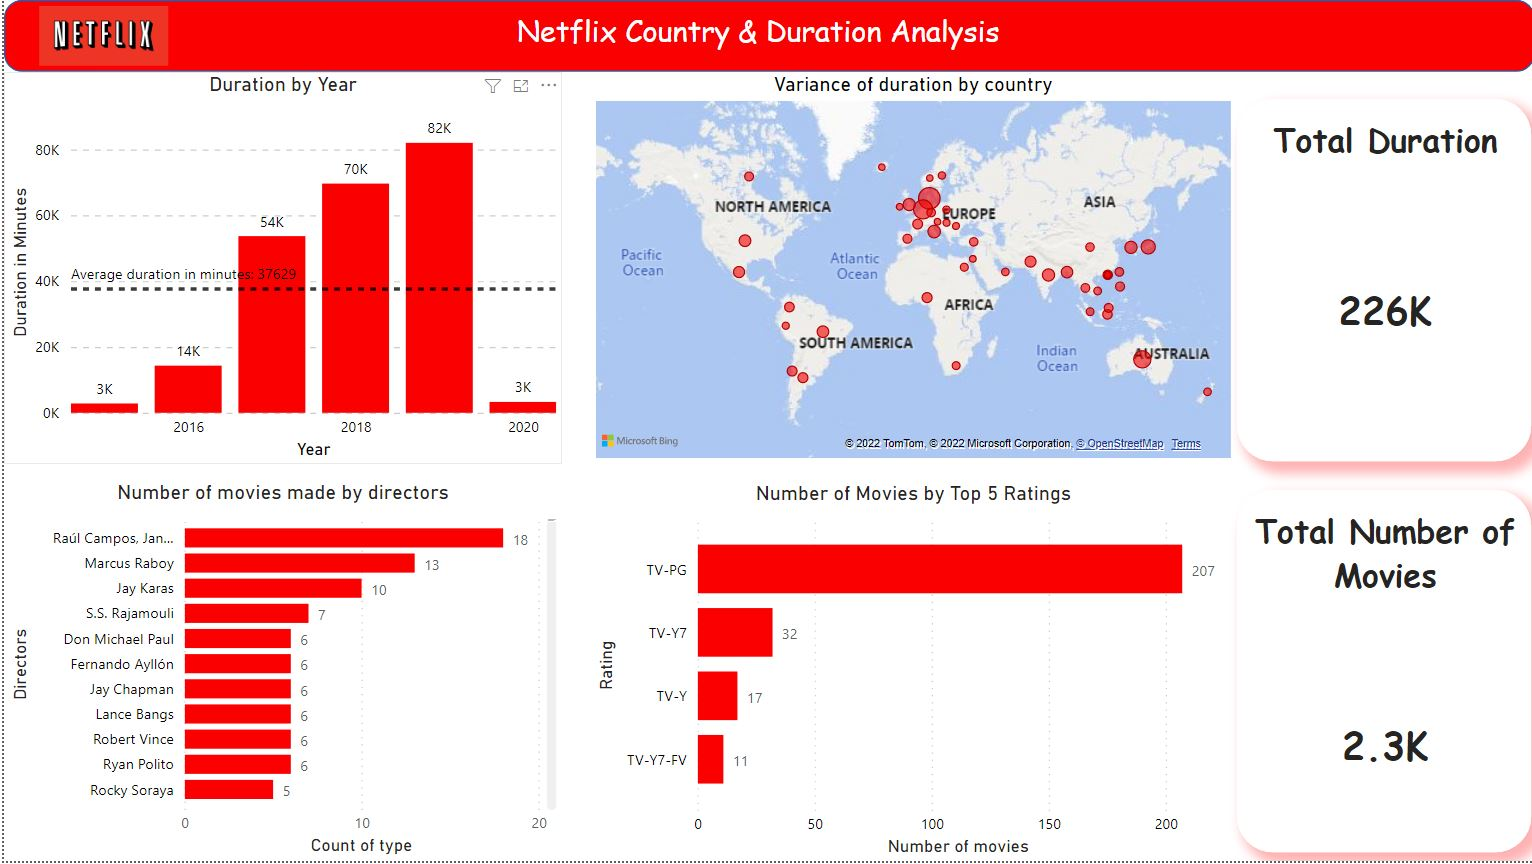

The dashboard page shown, as its layout file describes it:
{"tool":"powerbi","page":{"name":"Page 1","canvas":[1280,720],"ordinal":0},"visuals":[{"type":"map","title":"Variance of duration by country","fields":{"Category":["netflix_titles.country"],"Size":["netflix_titles.duration"]},"box":[490.2,60.3,540.8,327.8],"z":0},{"type":"clusteredColumnChart","title":"Duration by Year","fields":{"Y":["netflix_titles.duration"],"Category":["Date.date_added.Variation.Date Hierarchy.Year"]},"box":[0,60.3,466.9,327.8],"z":1000},{"type":"barChart","title":"Number of movies made by directors","fields":{"Category":["netflix_titles.director"],"Y":["Type.type"]},"box":[0,401.7,466.9,318.1],"z":2000},{"type":"clusteredBarChart","title":"Number of Movies by Top 5 Ratings","fields":{"Category":["netflix_titles.rating"],"Y":["Type.type"]},"box":[490,402,541,318],"z":3000},{"type":"shape","box":[0,0,1280,60.3],"z":3001},{"type":"textbox","box":[190.6,3.9,880.2,52.5],"z":3002},{"type":"image","box":[18.5,0,129.4,60.3],"z":3003},{"type":"textbox","box":[1031,60,249,328],"z":3004},{"type":"textbox","box":[1031,82.7,246.1,303.5],"z":3005},{"type":"textbox","box":[1031,409.5,246.1,303.5],"z":3006}]}

Visuals, with their boxes in screenshot pixels (x1, y1, x2, y2), scaled from the page's 1280x720 canvas onto the 1532x864 screenshot:
"Variance of duration by country" map: <region>587, 72, 1234, 466</region>
"Duration by Year" clusteredColumnChart: <region>0, 72, 559, 466</region>
"Number of movies made by directors" barChart: <region>0, 482, 559, 863</region>
"Number of Movies by Top 5 Ratings" clusteredBarChart: <region>586, 482, 1234, 863</region>
shape: <region>0, 0, 1531, 72</region>
textbox: <region>228, 5, 1282, 68</region>
image: <region>22, 0, 177, 72</region>
textbox: <region>1234, 72, 1531, 466</region>
textbox: <region>1234, 99, 1529, 463</region>
textbox: <region>1234, 491, 1529, 856</region>
